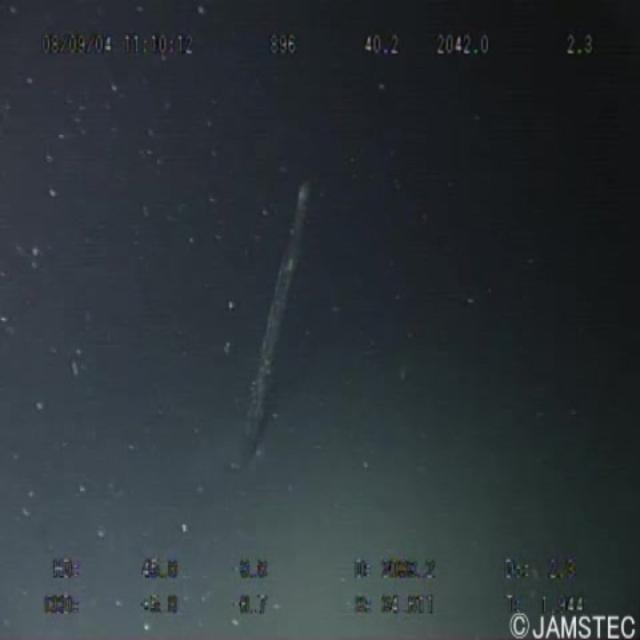Metal: (246, 159, 322, 467)
